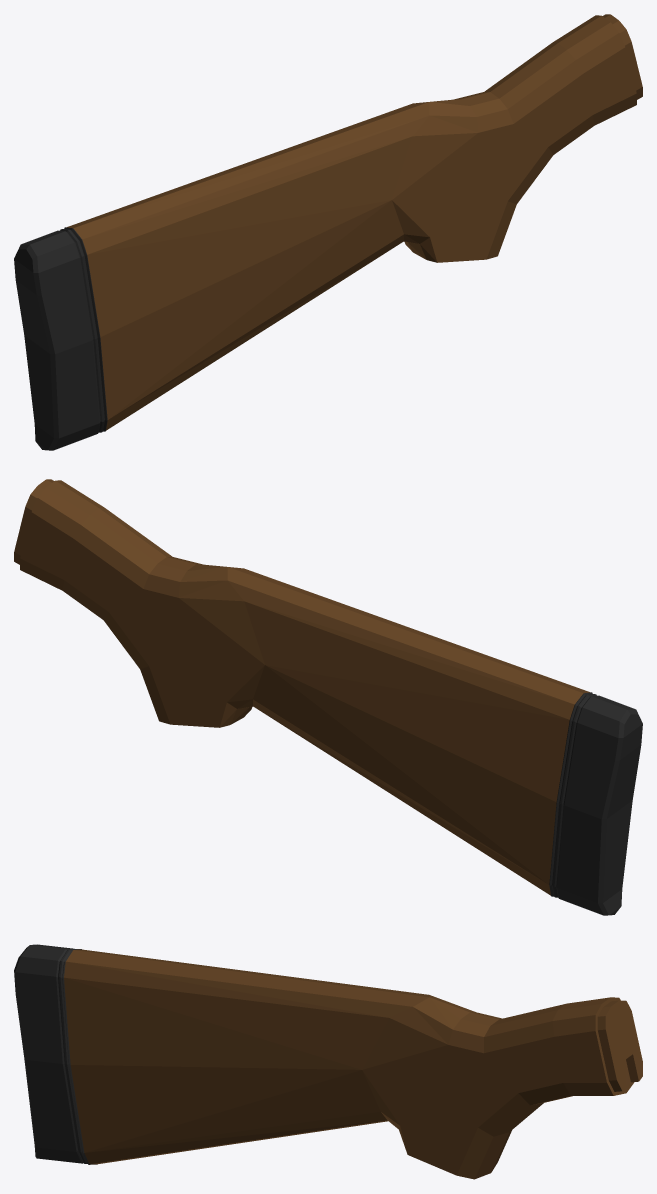
Rendered from remington_870_stock.glb.
3 views of the same model, one above another, from view 1: azimuth 30°, elevation 25°; view 2: azimuth 150°, elevation 25°; view 3: azimuth 330°, elevation 25° (orthographic).
Parts seen in each view (by area): view 1: rem870 stock_9 (×2); view 2: rem870 stock_9 (×2); view 3: rem870 stock_9 (×2).
Boxes of the visible parts, x1,y1,x2,y2 form: rem870 stock_9 (×2): (14, 14, 642, 450); rem870 stock_9 (×2): (14, 479, 642, 915); rem870 stock_9 (×2): (14, 944, 642, 1179).
Size of the model in its own units: 3.63 by 1.67 by 0.317.
